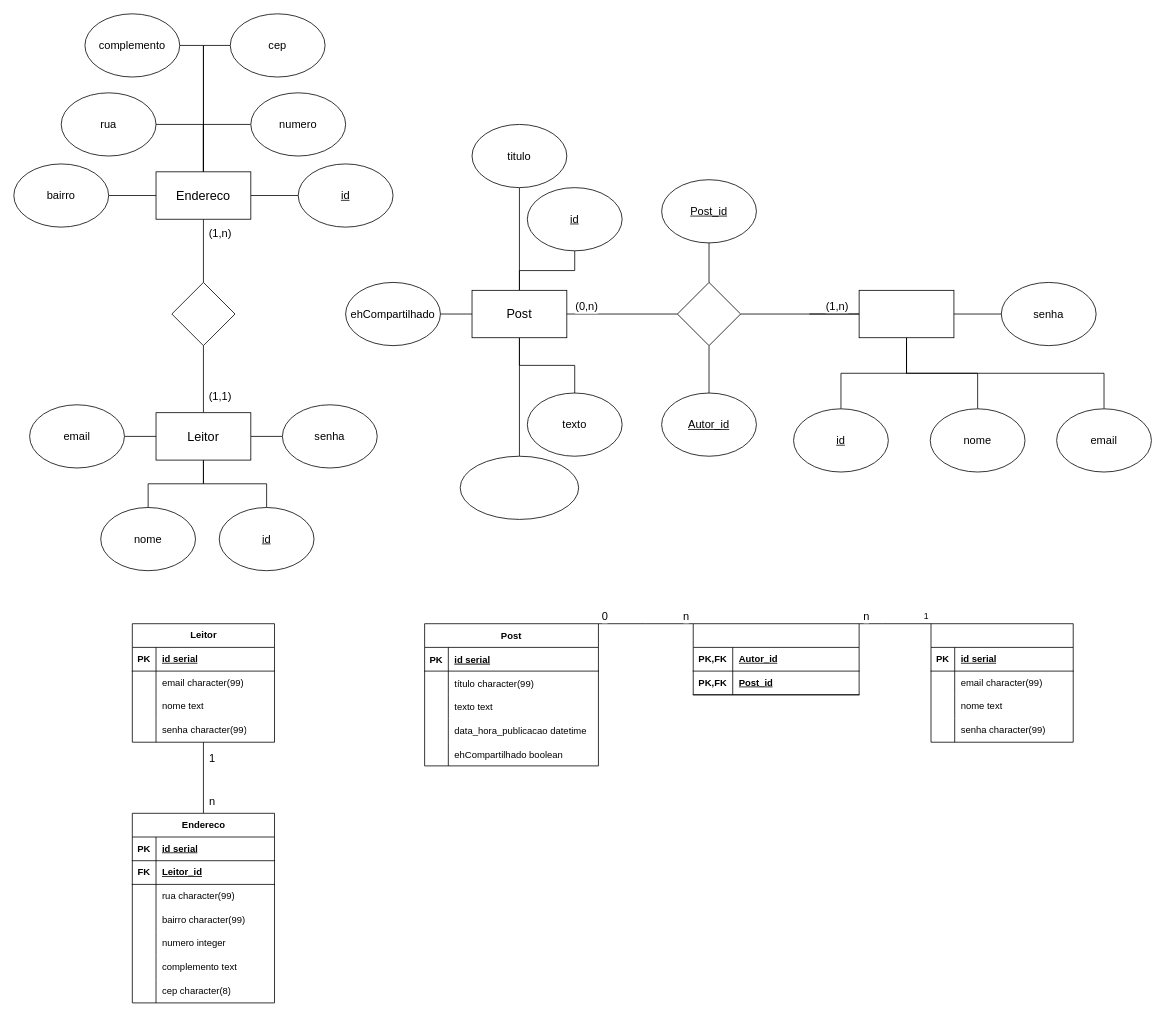
This 1165x1017 diagram has some shape labels left out. Each missing label, with the box of its shape:
A utor: (858, 290, 954, 338)
Autor: (930, 623, 1073, 742)
Autor_Post: (692, 623, 859, 695)
data_hora_publicacao: (459, 455, 579, 519)
escreve: (677, 282, 741, 346)
tem: (171, 282, 235, 346)
